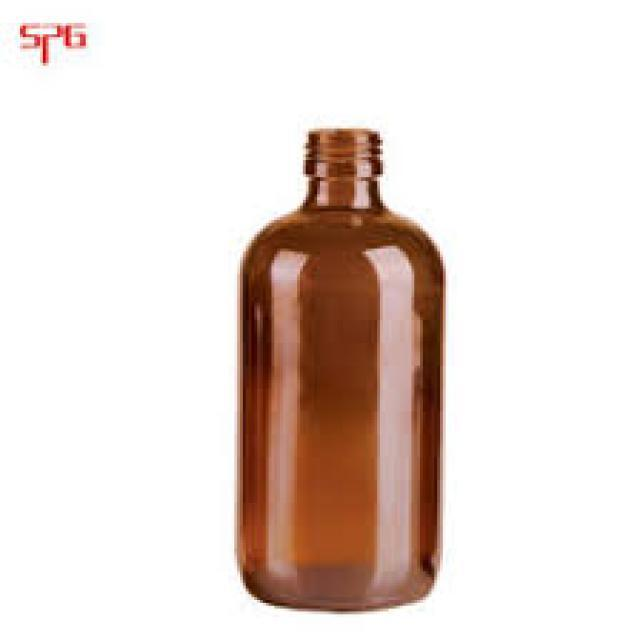Glass: (236, 126, 450, 616)
